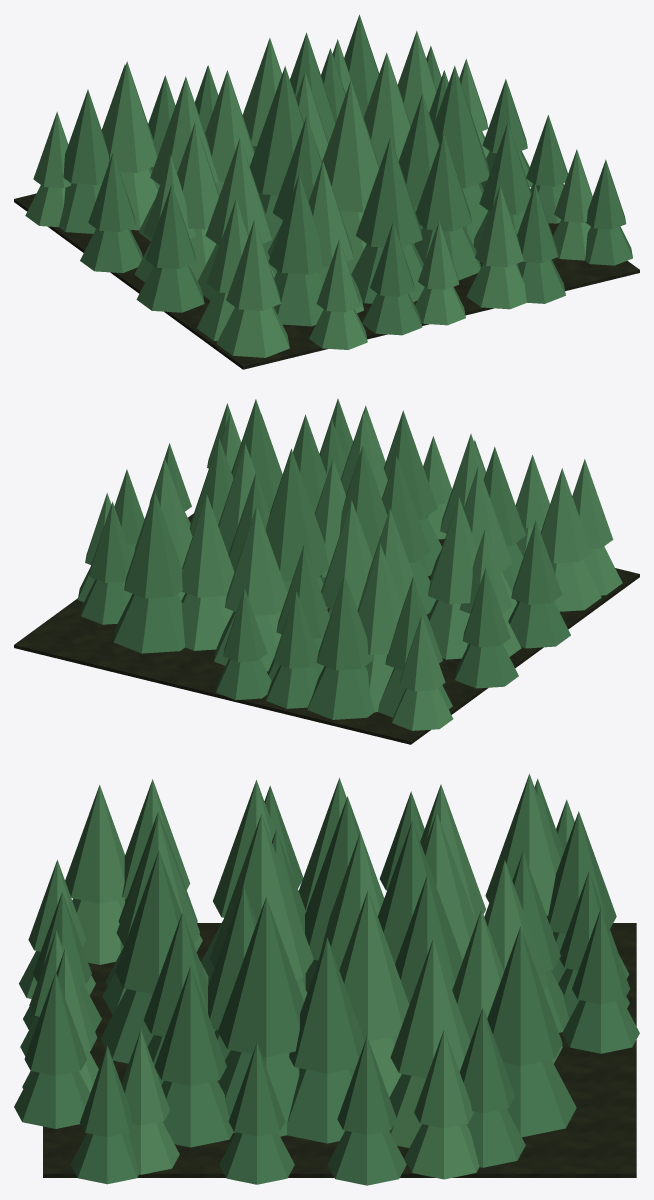
File: forest_impostor_conifer.glb
The picture shows the model from 3 angles, top to bottom: view 1: azimuth 30°, elevation 25°; view 2: azimuth 150°, elevation 25°; view 3: azimuth 270°, elevation 25°; orthographic projection. The views are drawn at different scales.
Parts seen in each view (by area): view 1: forest_impostor_conifer; view 2: forest_impostor_conifer; view 3: forest_impostor_conifer.
Boxes of the visible parts, x1,y1,x2,y2 form: forest_impostor_conifer: (14,14,639,369); forest_impostor_conifer: (14,398,639,744); forest_impostor_conifer: (14,773,639,1185).
Bounding box in the file's own units: 43.25 × 17.63 × 42.17.
Materials: 3 (1 with a texture image).
